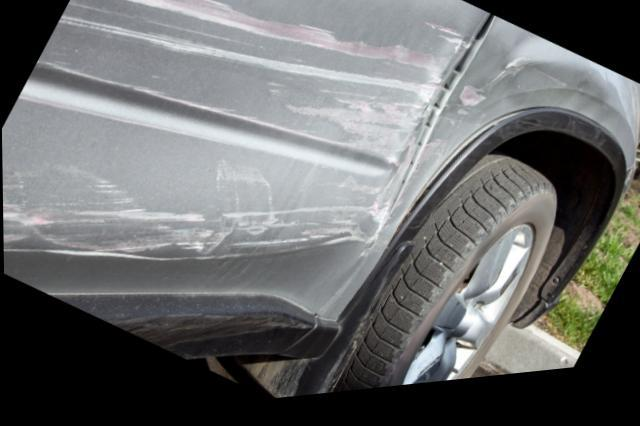dent: (405, 47, 608, 202)
scratch: (1, 0, 470, 270)
